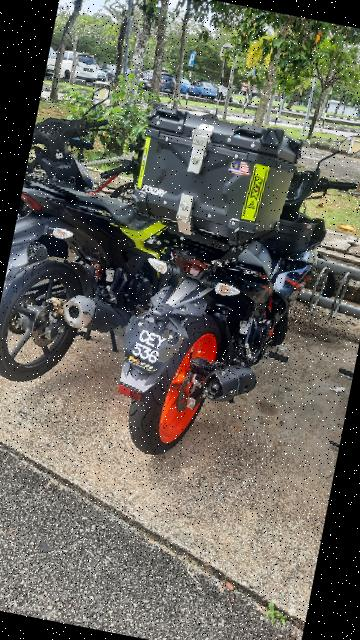License_Plate: (111, 307, 191, 383)
motorcycle: (64, 89, 360, 484)
